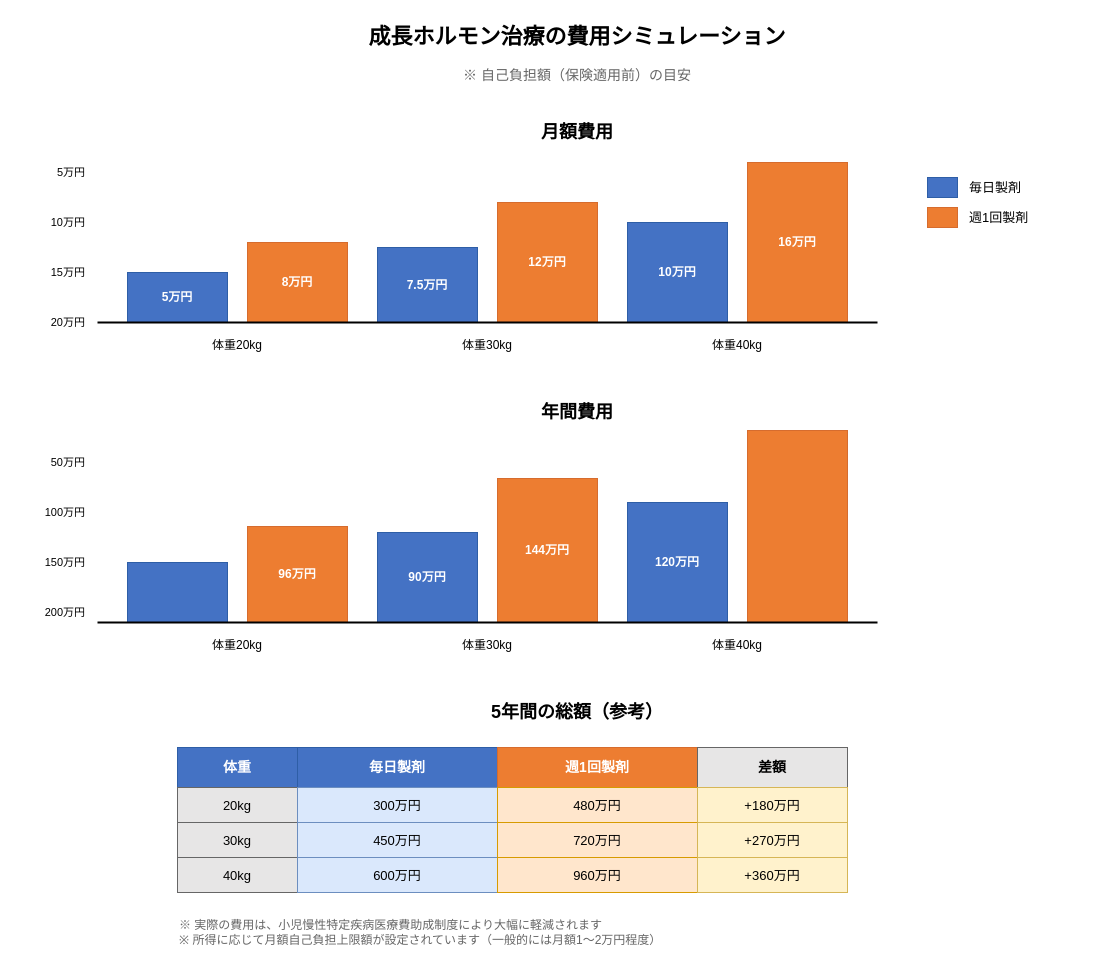
Image size: 1094x969. Some labels were removed from this diagram. Here are the shapes that lost their labels. From the top down, the centre of each, then its label:
(x=797, y=526): 192万円
(x=177, y=592): 60万円
